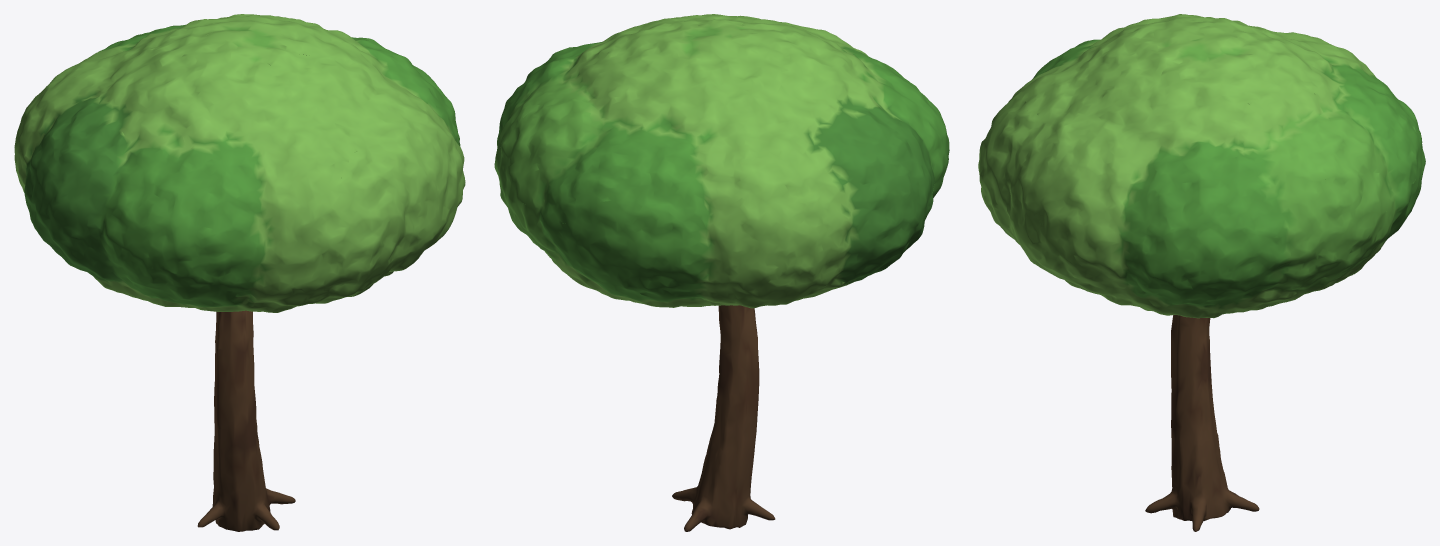
The model's file is broadleaf_mature_bushy.glb.
3 views of the same model, side by side, from view 1: azimuth 30°, elevation 25°; view 2: azimuth 150°, elevation 25°; view 3: azimuth 270°, elevation 25° (orthographic). The views are drawn at different scales.
Visible parts, largest first — view 1: broadleaf_mature_bushy_LOD0; view 2: broadleaf_mature_bushy_LOD0; view 3: broadleaf_mature_bushy_LOD0.
Part boxes in pixels (<box>): broadleaf_mature_bushy_LOD0: <box>14,14,465,531</box>; broadleaf_mature_bushy_LOD0: <box>494,14,949,531</box>; broadleaf_mature_bushy_LOD0: <box>978,14,1425,531</box>.
Size of what is drawn, in the model's own units: 4.49 by 5.19 by 4.42.
